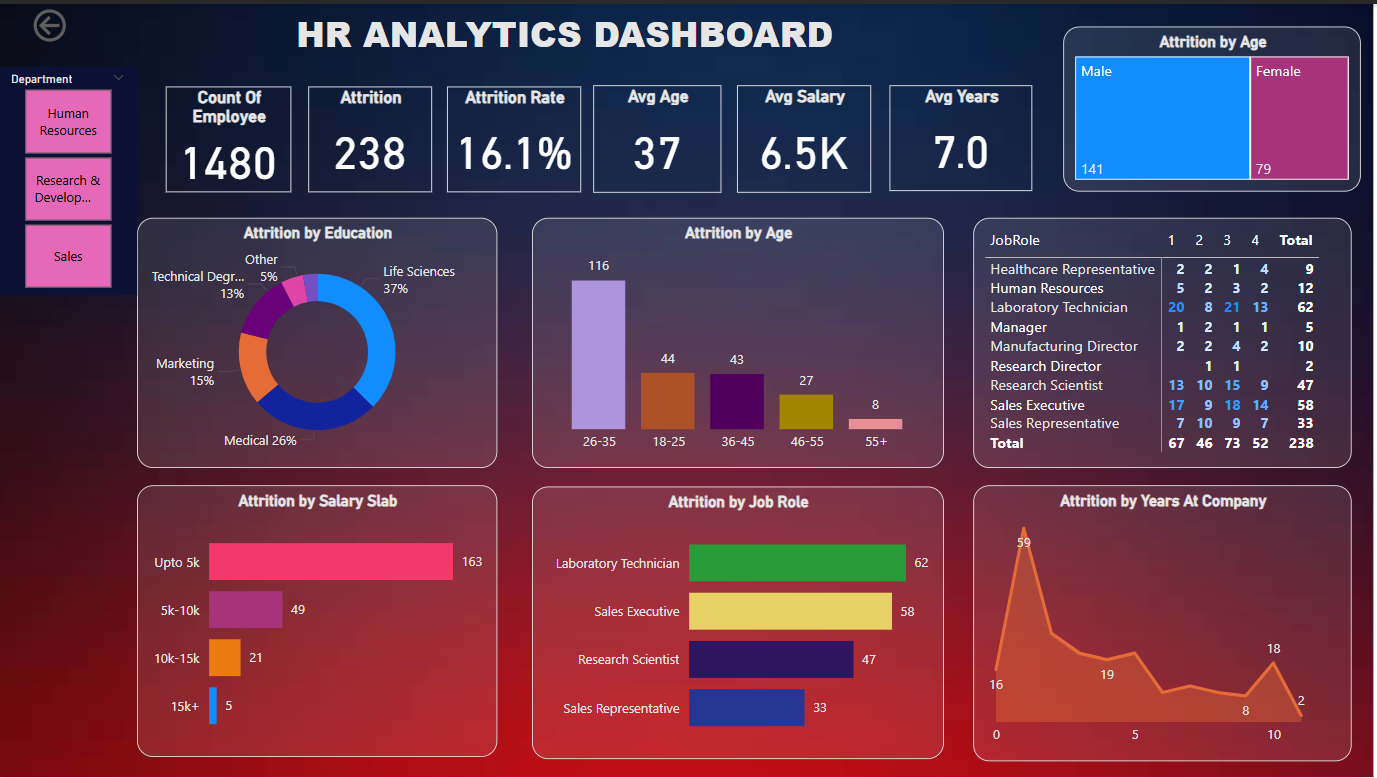

What the dashboard file says about the page in this screenshot:
{"tool":"powerbi","page":{"name":"Page 1","canvas":[1280,720],"ordinal":0},"visuals":[{"type":"card","title":"Count Of Employee","fields":{"Values":["CountNonNull(HR_Analytics.EmpID)"]},"box":[156.4,76.8,116.6,98.8],"z":0},{"type":"card","title":"Attrition","fields":{"Values":["CountNonNull(HR_Analytics.AttritionCount)"]},"box":[289.5,76.8,115.3,98.8],"z":1000},{"type":"card","title":"Attrition Rate","fields":{"Values":["HR_Analytics.AttritionRate"]},"box":[418.5,76.8,124.9,98.8],"z":2000},{"type":"card","title":"Avg Age","fields":{"Values":["Avg(HR_Analytics.Age)"]},"box":[554.4,75.5,119.4,100.2],"z":3000},{"type":"actionButton","box":[29.4,0,100,40],"z":4000},{"type":"card","title":"Avg Salary","fields":{"Values":["Avg(HR_Analytics.MonthlyIncome)"]},"box":[688.9,75.5,124.9,100.2],"z":5000},{"type":"card","title":"Avg Years","fields":{"Values":["Avg(HR_Analytics.YearsAtCompany)"]},"box":[830.2,75.5,133.1,98.8],"z":6000},{"type":"donutChart","title":"Attrition by Education","fields":{"Category":["HR_Analytics.EducationField"],"Y":["Sum(HR_Analytics.AttritionCount)"]},"box":[130.1,198.8,335,233.1],"z":7000},{"type":"clusteredColumnChart","title":"Attrition by Age","fields":{"Category":["HR_Analytics.AgeGroup"],"Y":["Sum(HR_Analytics.AttritionCount)"]},"box":[498.2,198.8,382.8,233.1],"z":8000},{"type":"pivotTable","fields":{"Rows":["HR_Analytics.JobRole"],"Columns":["HR_Analytics.JobSatisfaction"],"Values":["Sum(HR_Analytics.AttritionCount)"]},"box":[908,198.8,352.1,233.1],"z":9000},{"type":"barChart","title":"Attrition by Salary Slab","fields":{"Category":["HR_Analytics.SalarySlab"],"Y":["Sum(HR_Analytics.AttritionCount)"]},"box":[130.1,447.9,335,252.8],"z":10000},{"type":"barChart","title":"Attrition by Job Role","fields":{"Category":["HR_Analytics.JobRole"],"Y":["Sum(HR_Analytics.AttritionCount)"]},"box":[498.2,449.1,382.8,254],"z":11000},{"type":"areaChart","title":"Attrition by Years At Company","fields":{"Y":["Sum(HR_Analytics.AttritionCount)"],"Category":["HR_Analytics.YearsAtCompany"]},"box":[908,447.9,352.1,256.4],"z":12000},{"type":"treemap","title":"Attrition by Age","fields":{"Group":["HR_Analytics.Gender"],"Values":["Sum(HR_Analytics.AttritionCount)"]},"box":[992.1,20.6,277.2,153.7],"z":13000},{"type":"slicer","fields":{"Values":["HR_Analytics.Department"]},"box":[0,57.6,130.4,212.7],"z":14000},{"type":"textbox","box":[273.1,0,525.6,57.6],"z":15000}]}

Visuals, with their boxes in screenshot pixels (x1, y1, x2, y2), scaled from the page's 1280x720 canvas onto the 1377x778 screenshot:
"Count Of Employee" card: {"x1": 168, "y1": 83, "x2": 294, "y2": 190}
"Attrition" card: {"x1": 311, "y1": 83, "x2": 435, "y2": 190}
"Attrition Rate" card: {"x1": 450, "y1": 83, "x2": 585, "y2": 190}
"Avg Age" card: {"x1": 596, "y1": 82, "x2": 725, "y2": 190}
actionButton: {"x1": 32, "y1": 0, "x2": 139, "y2": 43}
"Avg Salary" card: {"x1": 741, "y1": 82, "x2": 875, "y2": 190}
"Avg Years" card: {"x1": 893, "y1": 82, "x2": 1036, "y2": 188}
"Attrition by Education" donutChart: {"x1": 140, "y1": 215, "x2": 500, "y2": 467}
"Attrition by Age" clusteredColumnChart: {"x1": 536, "y1": 215, "x2": 948, "y2": 467}
pivotTable - HR_Analytics.JobRole x HR_Analytics.JobSatisfaction: {"x1": 977, "y1": 215, "x2": 1356, "y2": 467}
"Attrition by Salary Slab" barChart: {"x1": 140, "y1": 484, "x2": 500, "y2": 757}
"Attrition by Job Role" barChart: {"x1": 536, "y1": 485, "x2": 948, "y2": 760}
"Attrition by Years At Company" areaChart: {"x1": 977, "y1": 484, "x2": 1356, "y2": 761}
"Attrition by Age" treemap: {"x1": 1067, "y1": 22, "x2": 1365, "y2": 188}
slicer - HR_Analytics.Department: {"x1": 0, "y1": 62, "x2": 140, "y2": 292}
textbox: {"x1": 294, "y1": 0, "x2": 859, "y2": 62}
